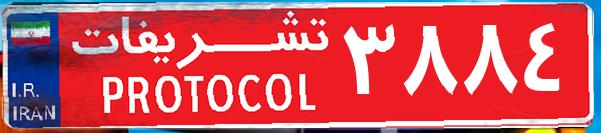3: (340, 20, 400, 115)
4: (520, 20, 580, 115)
8: (400, 20, 460, 115), (460, 20, 520, 115)
تشریفات: (60, 8, 340, 125)
